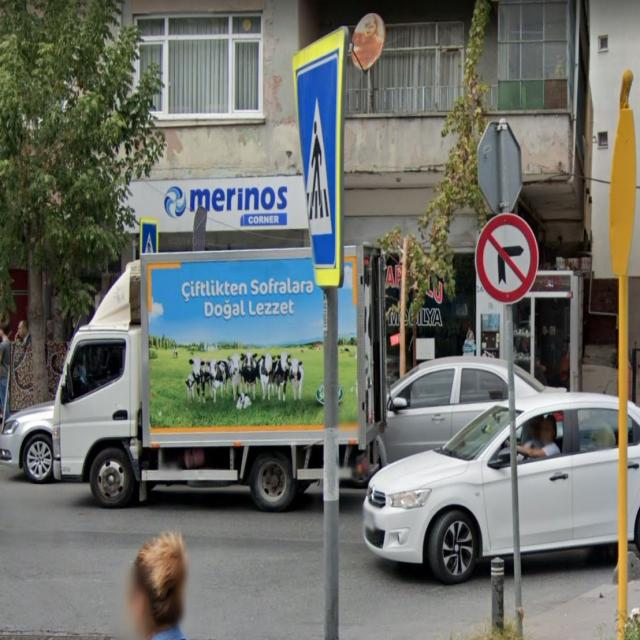sagadonulmez: (475, 213, 539, 302)
